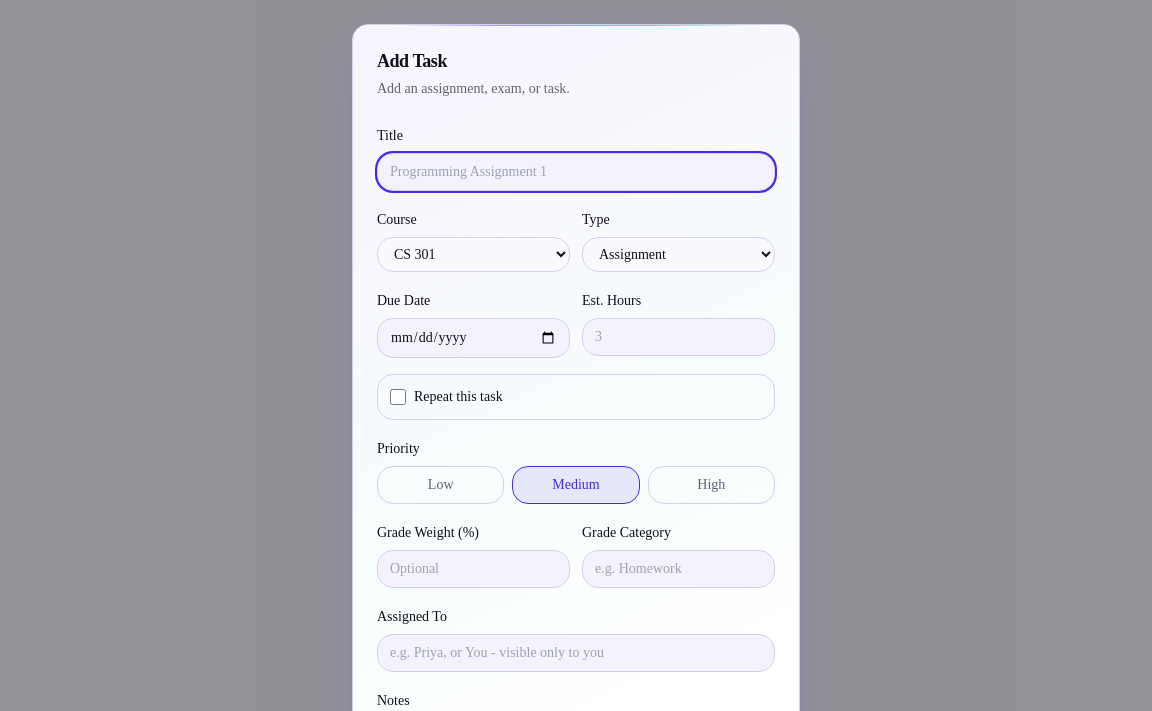
it: TaskFormModal - Conflict-Aware Recurring Task Templates › hides the frequency/occurrences controls until Repeat is checked
Check: the field labelled "Frequency" is not shown
Click the text "Repeat this task".
click(446, 397)  # box [390,389,503,405]
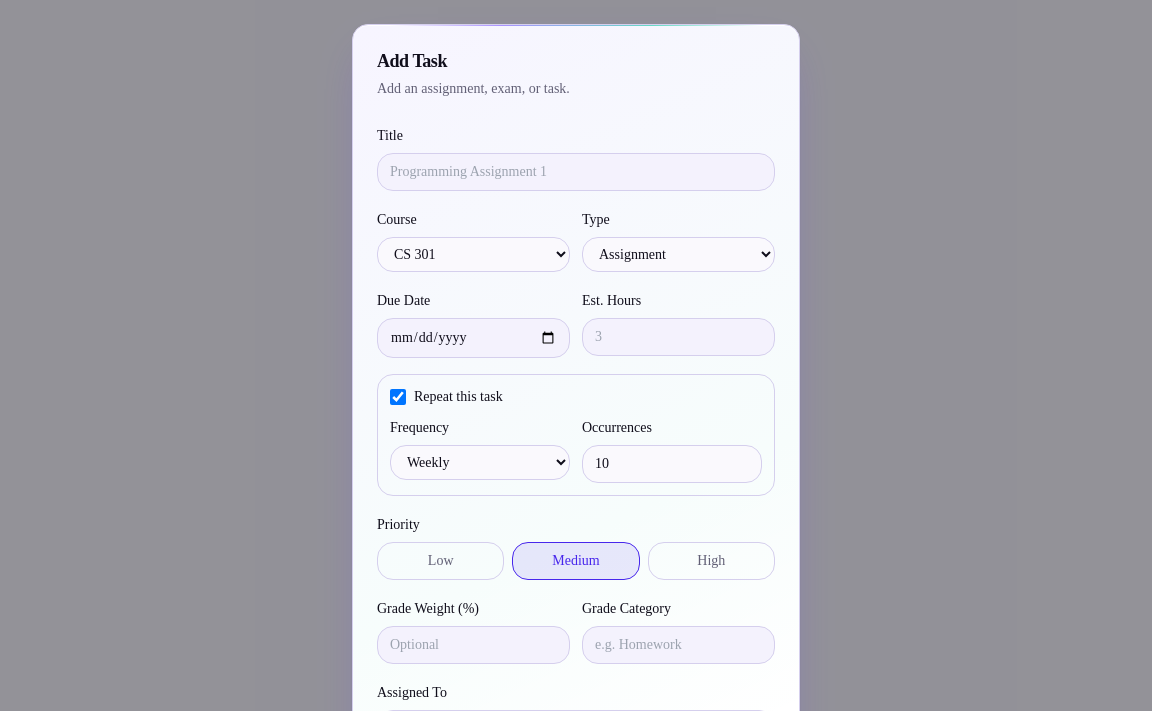
Check: the dropdown labelled "Frequency" is shown, box [390,445,570,480]
Check: the number field labelled "Occurrences" is shown, box [582,445,762,483]
